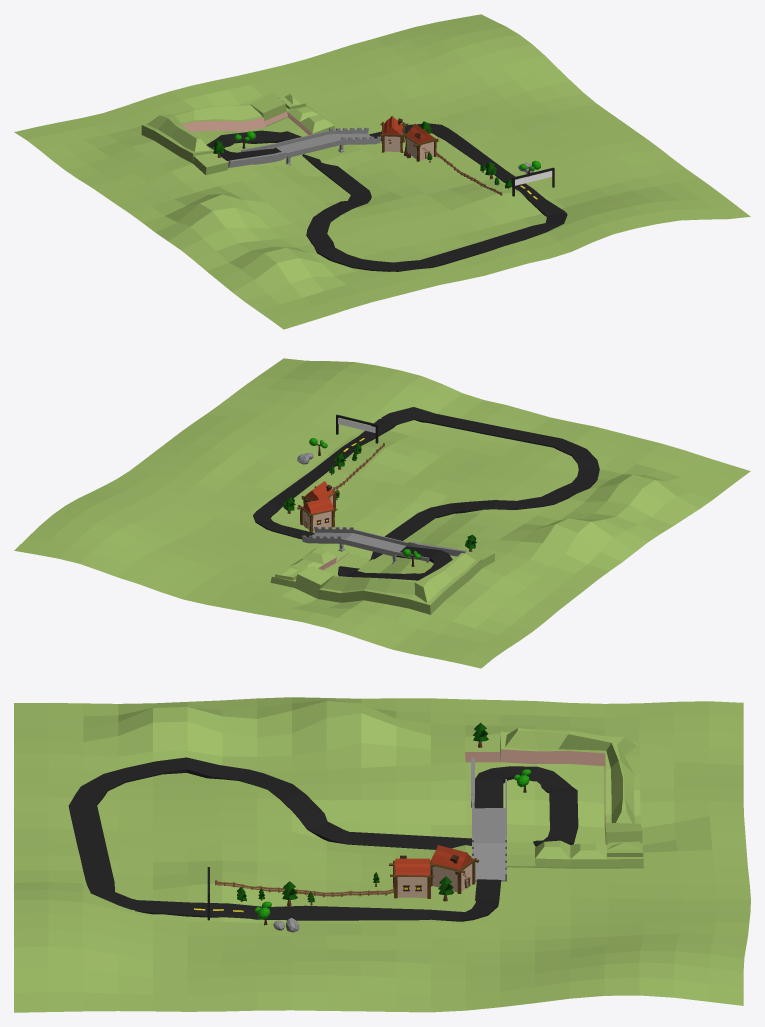
Rendered from low-poly-map.gltf.
The picture shows the model from 3 angles, top to bottom: view 1: azimuth 30°, elevation 25°; view 2: azimuth 150°, elevation 25°; view 3: azimuth 270°, elevation 25°; orthographic projection. The views are drawn at different scales.
Visible parts, largest first — view 1: ground, road.001, bridge, house, house.001; view 2: ground, road.001, bridge, house.001; view 3: ground, road.001, bridge, house.001, house, fence.
Boxes of the visible parts, x1,y1,x2,y2 form: ground: (14,14,750,329); road.001: (206,123,567,271); bridge: (228,127,381,167); house: (402,123,438,161); house.001: (380,116,408,152); ground: (14,358,750,668); road.001: (253,407,599,580); bridge: (302,526,466,563); house.001: (297,497,337,532); ground: (14,697,750,1012); road.001: (68,757,578,921); bridge: (471,757,506,881); house.001: (430,845,479,893); house: (389,855,434,898); fence: (215,880,393,897).
Bounding box in the file's own units: 300 × 27.5 × 303.
Materials: 13 (12 with a texture image).
